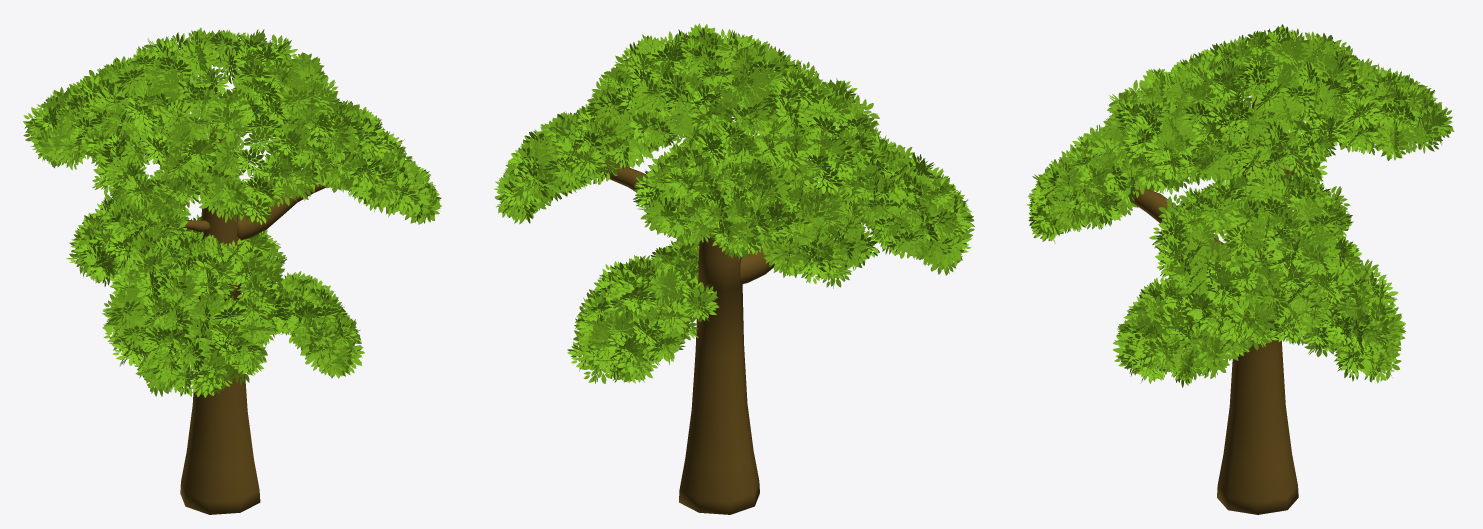
The model's file is new tree test.fbx.
The picture shows the model from 3 angles, left to right: view 1: azimuth 30°, elevation 25°; view 2: azimuth 150°, elevation 25°; view 3: azimuth 270°, elevation 25°; orthographic projection.
Visible parts, largest first — view 1: Leaf.001, Tree_Trunk_LOW; view 2: Leaf.001, Tree_Trunk_LOW; view 3: Leaf.001, Tree_Trunk_LOW.
Part boxes in pixels (left/top/right/bottom): Leaf.001: left=23, top=27, right=441, bottom=397; Tree_Trunk_LOW: left=133, top=109, right=328, bottom=514; Leaf.001: left=494, top=23, right=974, bottom=383; Tree_Trunk_LOW: left=593, top=97, right=790, bottom=514; Leaf.001: left=1026, top=24, right=1454, bottom=387; Tree_Trunk_LOW: left=1112, top=93, right=1312, bottom=514.
Size of the model in its own units: 574 by 626 by 555.
